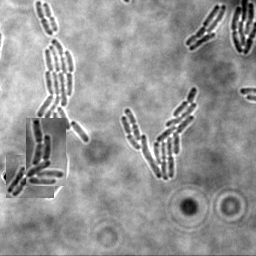Dividing: (34, 1, 52, 37), (41, 3, 57, 33)
Microcolony: (18, 40, 89, 199), (120, 87, 197, 181), (26, 118, 66, 186), (6, 155, 54, 198), (184, 5, 226, 52), (230, 1, 255, 56)
